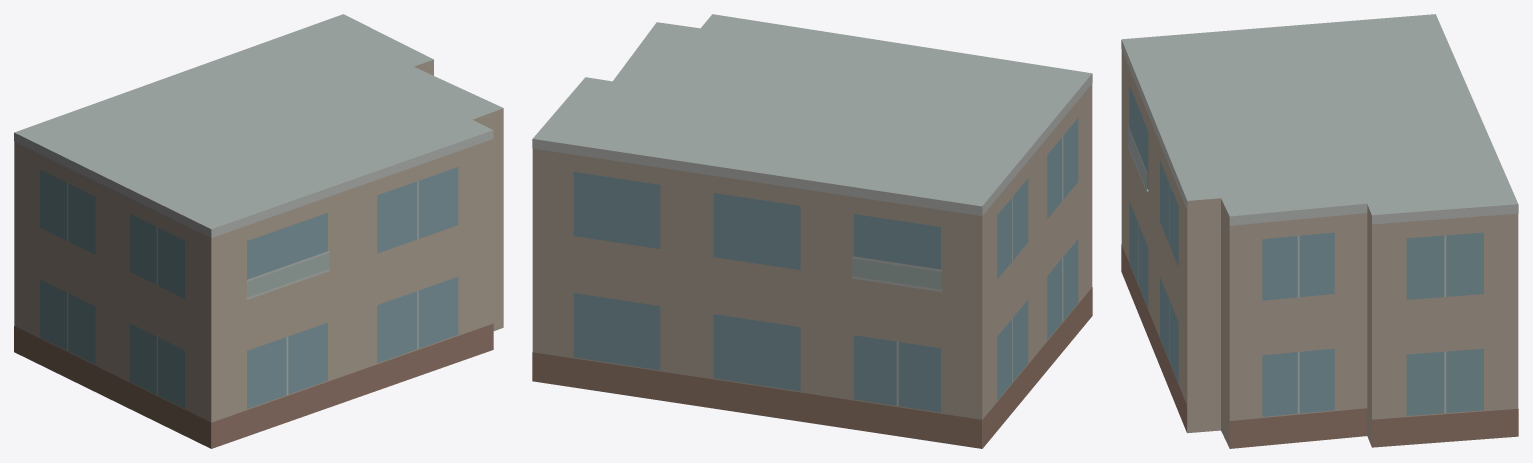
File: survey-upis-32722882.glb
3 views of the same model, side by side, from view 1: azimuth 30°, elevation 25°; view 2: azimuth 150°, elevation 25°; view 3: azimuth 270°, elevation 25° (orthographic). The views are drawn at different scales.
Parts seen in each view (by area): view 1: survey-upis-32722882.tmp; view 2: survey-upis-32722882.tmp; view 3: survey-upis-32722882.tmp.
Part boxes in pixels (x1,y1,x2,y2): survey-upis-32722882.tmp: (14, 14, 503, 448); survey-upis-32722882.tmp: (532, 14, 1092, 448); survey-upis-32722882.tmp: (1121, 14, 1518, 448).
Size of the model in its own units: 11.42 by 6.1 by 9.46.
